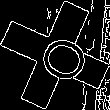O_NW: (23, 25, 87, 85)
